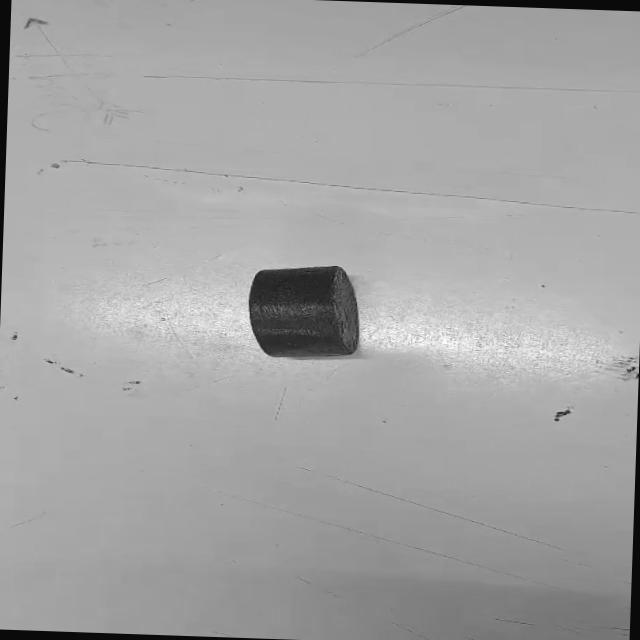bcircle: (244, 261, 365, 361)
